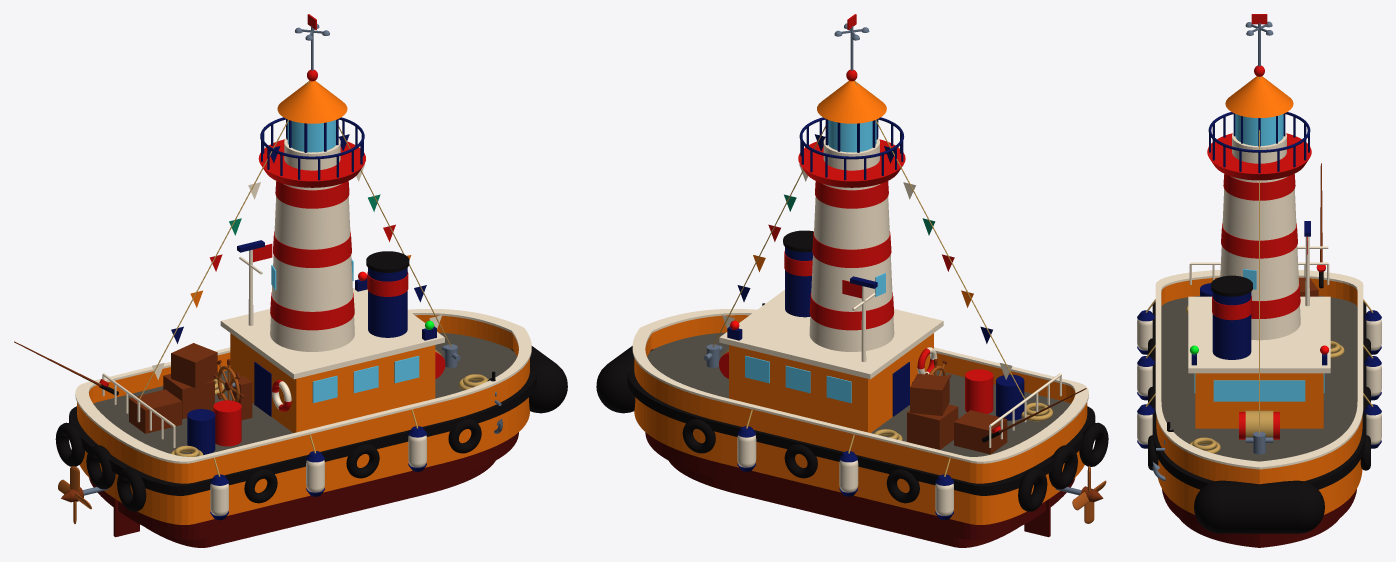
The model's file is lighthouse-tug.obj.
The picture shows the model from 3 angles, left to right: view 1: azimuth 30°, elevation 25°; view 2: azimuth 150°, elevation 25°; view 3: azimuth 270°, elevation 25°; orthographic projection. The views are drawn at different scales.
Visible parts, largest first — view 1: bulwark, hull, tower_body, cabin, hull_bottom, deck, cabin_roof, bulwark_cap, fender_rub, keel, gallery, lantern_roof (+21 smaller); view 2: bulwark, hull, cabin, tower_body, cabin_roof, hull_bottom, deck, bulwark_cap, fender_rub, keel, gallery, lantern_roof (+20 smaller); view 3: deck, tower_body, cabin_roof, bow_fender, bulwark, bulwark_cap, cabin, fender_rub, gallery, hull, cabin_window_front, stack (+20 smaller).
Boxes of the visible parts, x1=… form: bulwark: x1=77, y1=315, x2=529, y2=482; hull: x1=77, y1=371, x2=529, y2=524; tower_body: x1=270, y1=184, x2=354, y2=351; cabin: x1=230, y1=333, x2=435, y2=432; hull_bottom: x1=89, y1=432, x2=518, y2=540; deck: x1=93, y1=332, x2=516, y2=453; cabin_roof: x1=220, y1=288, x2=444, y2=379; bulwark_cap: x1=75, y1=309, x2=531, y2=463; fender_rub: x1=69, y1=371, x2=537, y2=495; keel: x1=145, y1=461, x2=495, y2=547; gallery: x1=258, y1=139, x2=365, y2=187; lantern_roof: x1=277, y1=80, x2=347, y2=123; bulwark: x1=634, y1=315, x2=1087, y2=482; hull: x1=634, y1=371, x2=1087, y2=524; cabin: x1=729, y1=333, x2=933, y2=432; tower_body: x1=809, y1=184, x2=894, y2=351; cabin_roof: x1=719, y1=290, x2=943, y2=379; hull_bottom: x1=645, y1=432, x2=1075, y2=540; deck: x1=647, y1=332, x2=1070, y2=456; bulwark_cap: x1=632, y1=309, x2=1088, y2=463; fender_rub: x1=627, y1=371, x2=1095, y2=495; keel: x1=669, y1=461, x2=1018, y2=547; gallery: x1=798, y1=139, x2=905, y2=187; lantern_roof: x1=817, y1=80, x2=886, y2=123; deck: x1=1161, y1=295, x2=1357, y2=461; tower_body: x1=1220, y1=176, x2=1300, y2=340; cabin_roof: x1=1188, y1=296, x2=1330, y2=373; bow_fender: x1=1194, y1=480, x2=1324, y2=533; bulwark: x1=1156, y1=277, x2=1362, y2=484; bulwark_cap: x1=1155, y1=269, x2=1363, y2=469; cabin: x1=1195, y1=373, x2=1323, y2=428; fender_rub: x1=1152, y1=302, x2=1366, y2=489; gallery: x1=1207, y1=133, x2=1311, y2=180; hull: x1=1156, y1=428, x2=1362, y2=514; cabin_window_front: x1=1213, y1=380, x2=1305, y2=401; stack: x1=1212, y1=292, x2=1251, y2=359.
Bounding box in the file's own units: 12.21 × 11.03 × 5.34.
